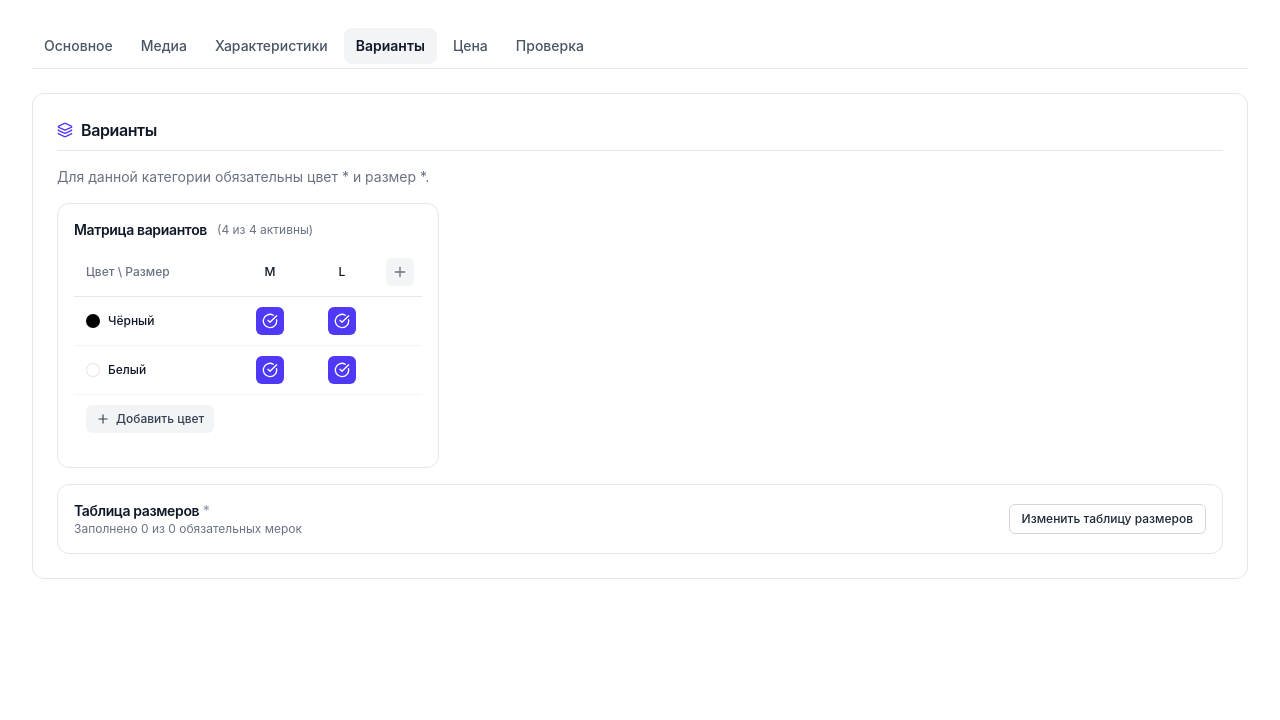
Scenario: ProductStudioFormWorkspace - Variant Editing Parity (PS.R4B3.1C4C3B3A) › 6. PS.R4B3.1C4C3B3B-R3 — Final Variant Matrix UX (Form) › 7. color + opens existing color editor
Click the button with test id "matrix-add-color-btn": (150, 419) [86,405,214,433]
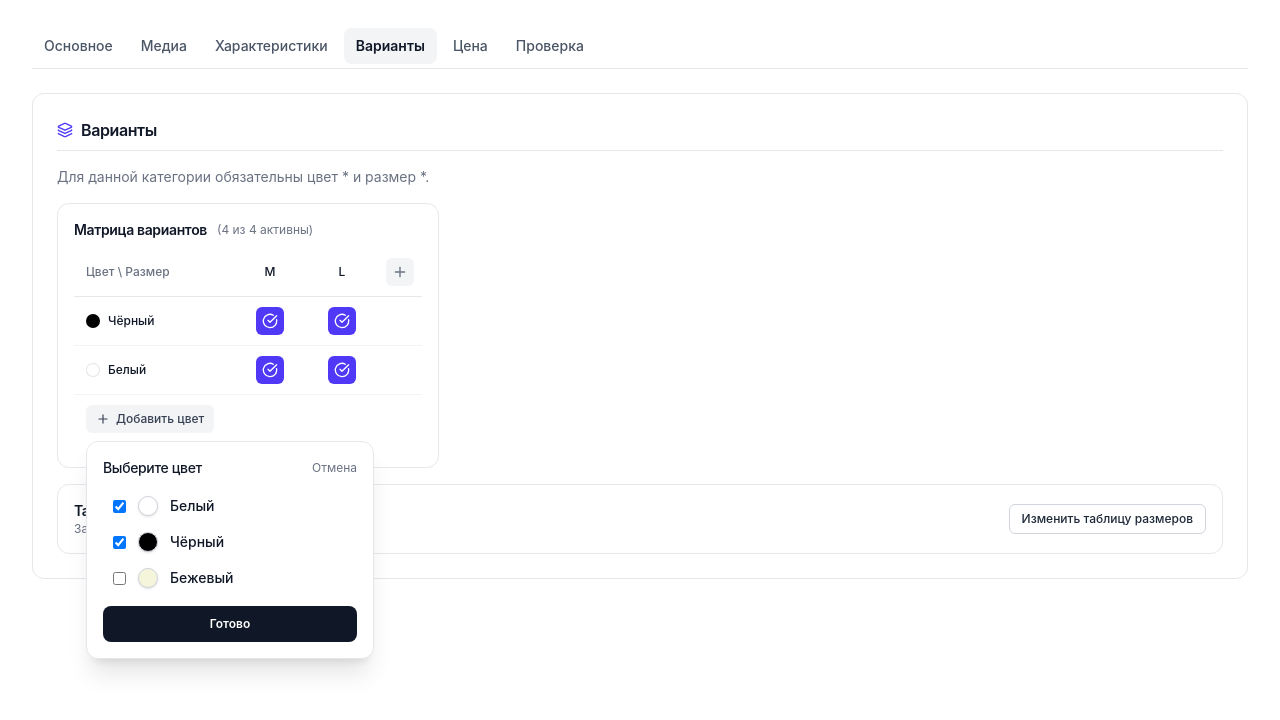
Now the element with test id "form-color-popover" is shown, box [86,441,374,659]
Now the button with test id "form-color-popover-apply-btn" is shown, box [103,606,357,642]
